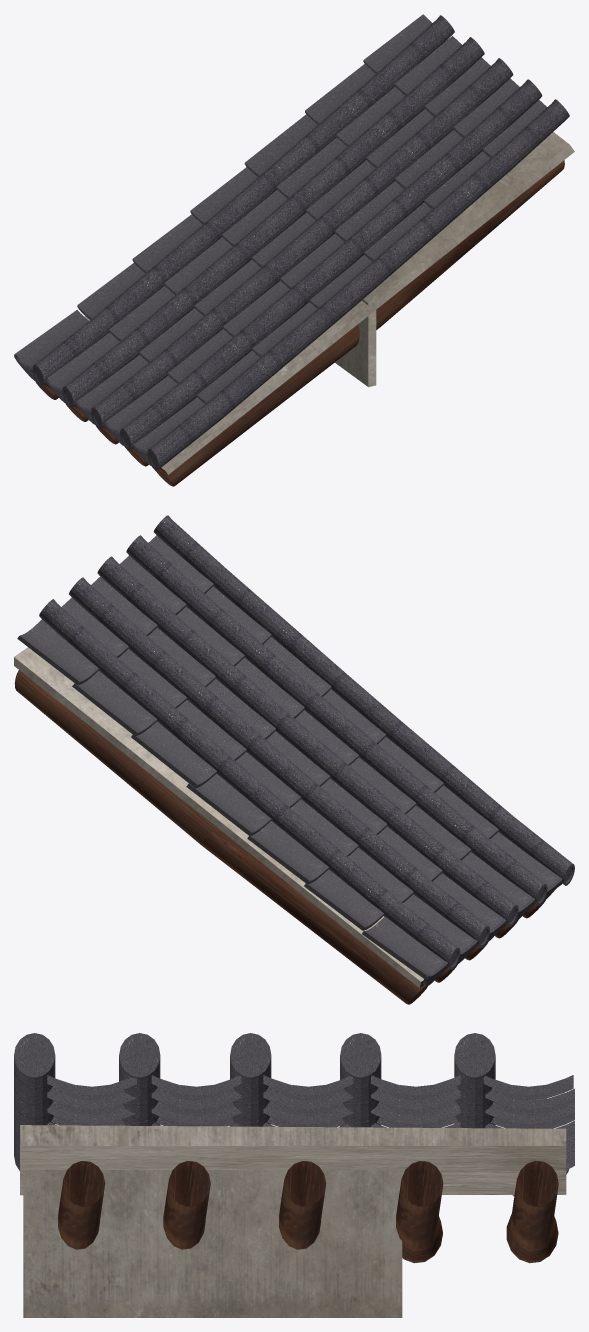
The model's file is SM_Roof_60.fbx.
3 views of the same model, one above another, from view 1: azimuth 30°, elevation 25°; view 2: azimuth 150°, elevation 25°; view 3: azimuth 270°, elevation 25° (orthographic). The views are drawn at different scales.
Visible parts, largest first — view 1: SM_Roof_60; view 2: SM_Roof_60; view 3: SM_Roof_60.
Boxes of the visible parts, x1,y1,x2,y2 form: SM_Roof_60: [14, 14, 574, 486]; SM_Roof_60: [14, 515, 574, 1004]; SM_Roof_60: [14, 1033, 574, 1317].
Bounding box in the file's own units: 418 × 251 × 286.
Materials: 3 (3 with a texture image).
